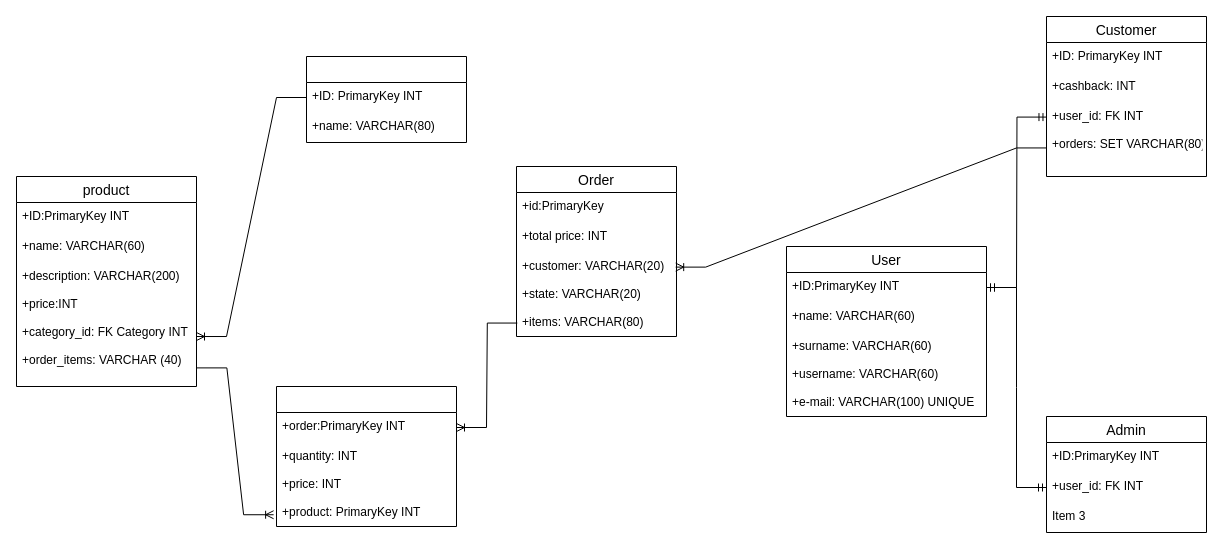
This 1223x549 diagram has some shape labels left out. Here are the shapes that lost their labels. From the top down, the box of each, then its label:
(306, 56, 466, 142): Category
(276, 386, 456, 526): Order_items
